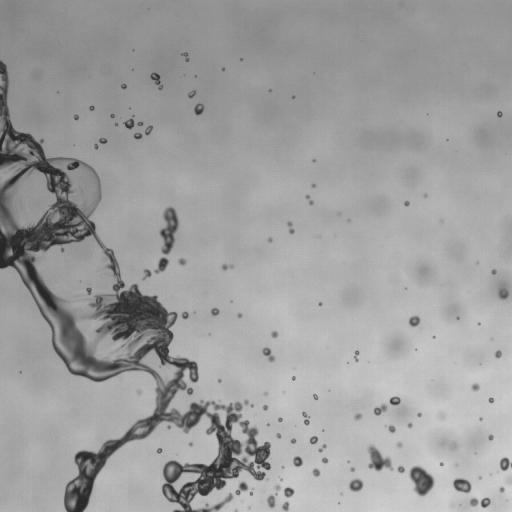droplet: (408, 465, 434, 496), (367, 444, 393, 471), (453, 478, 471, 493), (235, 481, 252, 495), (262, 347, 275, 362), (349, 478, 363, 491), (373, 403, 387, 415), (499, 457, 511, 470), (408, 315, 420, 326), (124, 117, 135, 128), (194, 103, 204, 115), (498, 288, 508, 299), (267, 494, 275, 507), (293, 456, 303, 466), (284, 487, 294, 497), (389, 396, 400, 405), (143, 269, 151, 279), (386, 425, 395, 433), (309, 436, 318, 444), (282, 501, 289, 511), (222, 264, 233, 270), (211, 308, 219, 316), (471, 383, 479, 391), (312, 468, 320, 476), (145, 125, 152, 134), (133, 132, 142, 139), (353, 413, 362, 420), (505, 475, 511, 485), (188, 90, 195, 98), (178, 258, 186, 265), (181, 311, 188, 319), (494, 350, 501, 358), (397, 465, 404, 473), (182, 52, 188, 61), (438, 412, 445, 419), (274, 484, 280, 492), (271, 331, 278, 337), (451, 442, 457, 449), (396, 442, 402, 448), (99, 138, 106, 143), (497, 111, 502, 117), (488, 434, 493, 440), (156, 448, 162, 453), (322, 457, 327, 463), (404, 201, 409, 206), (491, 269, 496, 274), (313, 394, 318, 399), (262, 405, 267, 410), (276, 433, 281, 438), (290, 438, 295, 443), (499, 487, 504, 492), (121, 84, 126, 88), (89, 106, 94, 110), (74, 114, 78, 119), (94, 144, 98, 149), (268, 237, 272, 242), (237, 313, 242, 317), (136, 390, 141, 394), (489, 397, 493, 402), (417, 412, 421, 417), (188, 442, 193, 446), (350, 467, 355, 471), (278, 417, 282, 421), (408, 423, 412, 427), (138, 122, 142, 125), (311, 184, 315, 187), (110, 114, 113, 117), (318, 302, 321, 305), (479, 417, 482, 420), (313, 159, 315, 162), (424, 194, 427, 196), (292, 377, 295, 379), (267, 423, 269, 426), (440, 463, 443, 465), (479, 476, 481, 479), (279, 478, 282, 480), (222, 68, 224, 70), (292, 96, 294, 98), (218, 380, 220, 382)
ligament: (0, 60, 270, 511), (154, 206, 179, 273), (469, 497, 490, 507), (150, 73, 163, 89), (287, 221, 294, 234), (302, 412, 309, 425), (306, 195, 313, 205), (318, 444, 326, 452), (354, 350, 359, 361), (234, 510, 238, 511)
